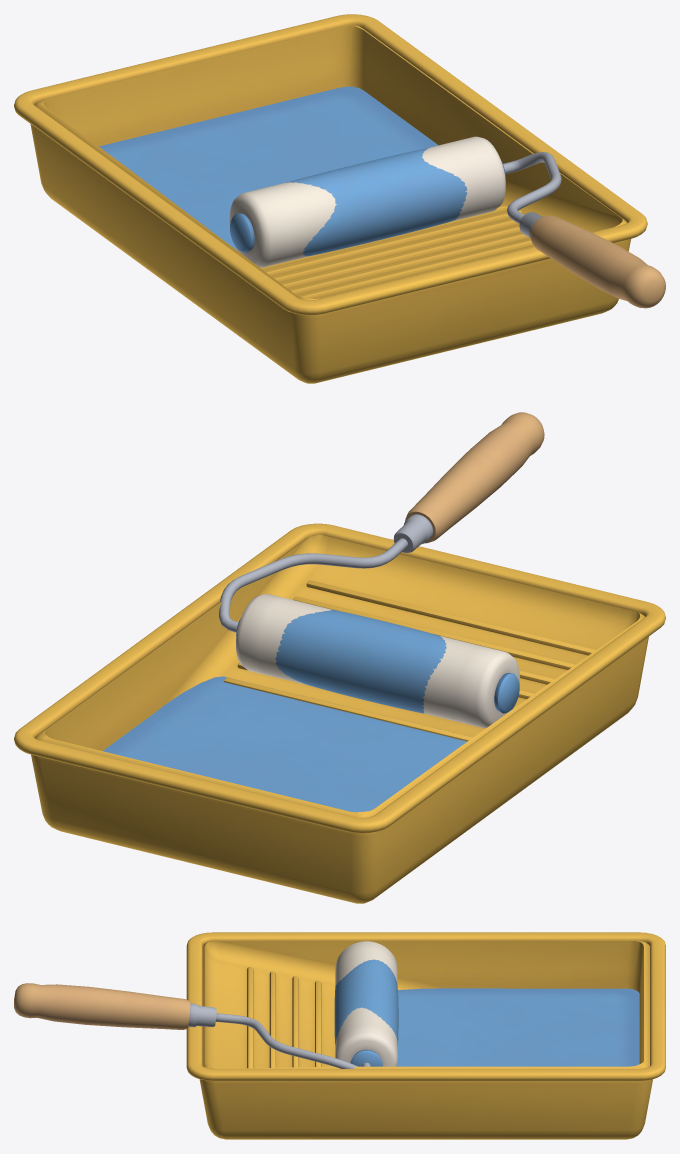
The model's file is paint-roller.glb.
3 views of the same model, one above another, from view 1: azimuth 30°, elevation 25°; view 2: azimuth 150°, elevation 25°; view 3: azimuth 270°, elevation 25° (orthographic). The views are drawn at different scales.
Parts seen in each view (by area): view 1: paint-roller_tray, paint-roller_sleeve, paint-roller_frame; view 2: paint-roller_tray, paint-roller_sleeve, paint-roller_frame; view 3: paint-roller_tray, paint-roller_frame, paint-roller_sleeve.
Boxes of the visible parts, <box> form: paint-roller_tray: <box>14,14,647,383</box>; paint-roller_sleeve: <box>229,136,505,267</box>; paint-roller_frame: <box>503,152,665,308</box>; paint-roller_tray: <box>14,523,665,903</box>; paint-roller_sleeve: <box>236,594,519,728</box>; paint-roller_frame: <box>219,412,544,632</box>; paint-roller_tray: <box>186,932,665,1139</box>; paint-roller_frame: <box>14,983,370,1068</box>; paint-roller_sleeve: <box>334,941,398,1066</box>.
Bounding box in the file's own units: 0.2655 × 0.1068 × 0.5108.
Materials: 3 (3 with a texture image).
